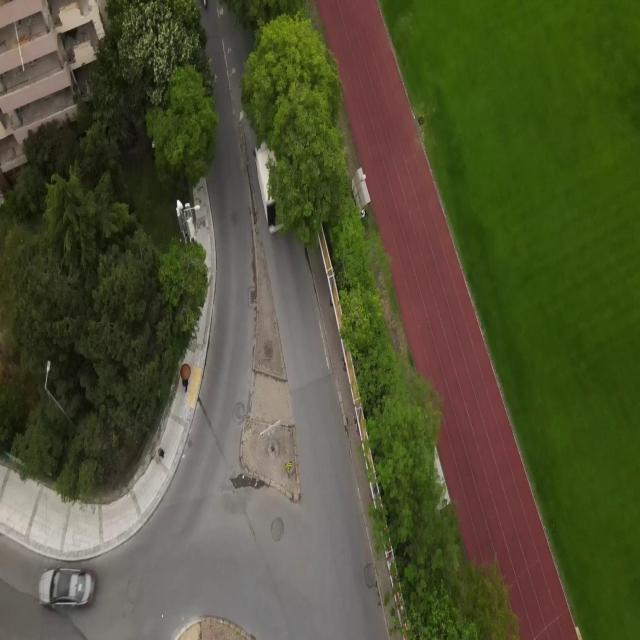p3rson: (182, 376, 188, 392)
